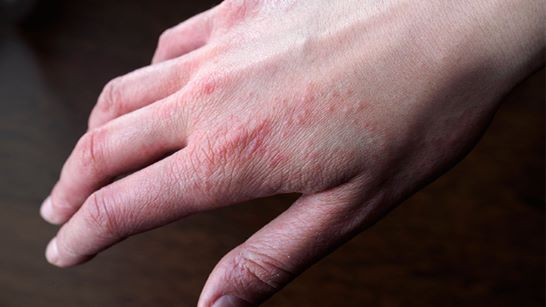Diseased: (164, 88, 379, 245)
